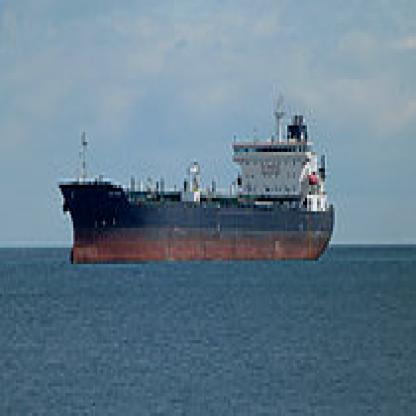Tanker: (49, 132, 333, 264)
